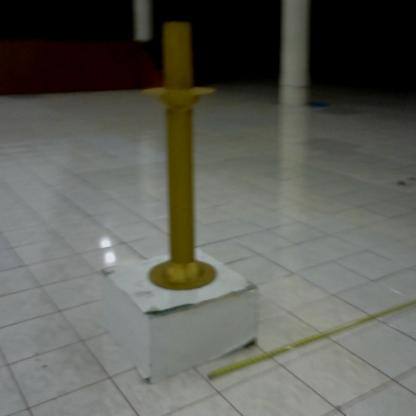pole: (138, 14, 225, 300)
